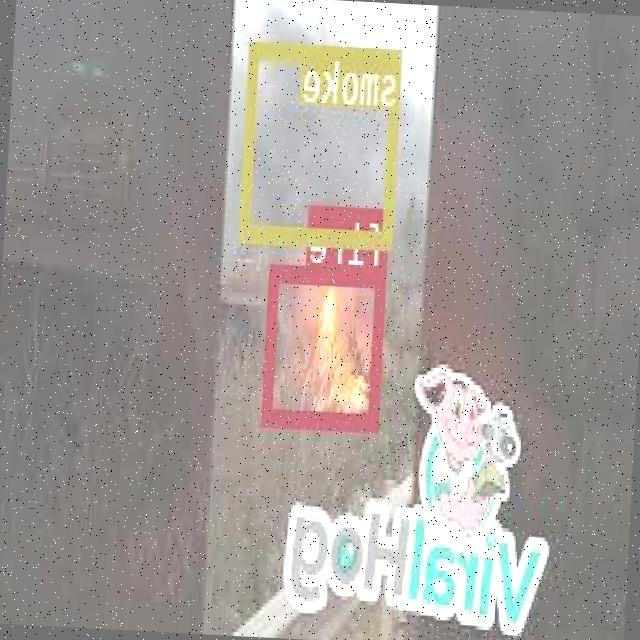fire: (265, 260, 389, 427)
smoke: (242, 38, 404, 246)
